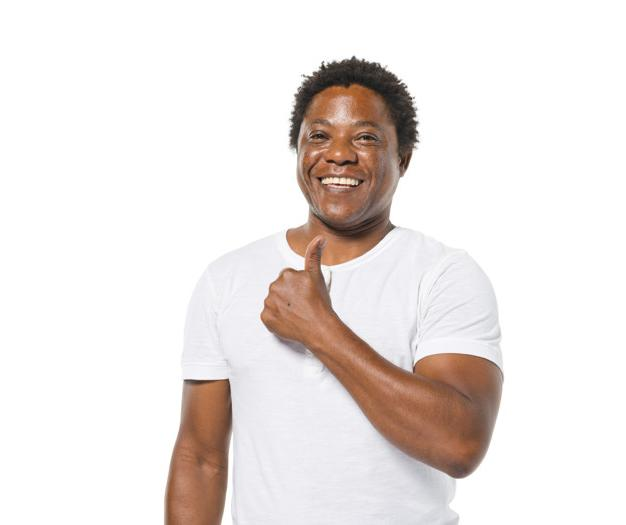thumbsup: (260, 234, 328, 331)
